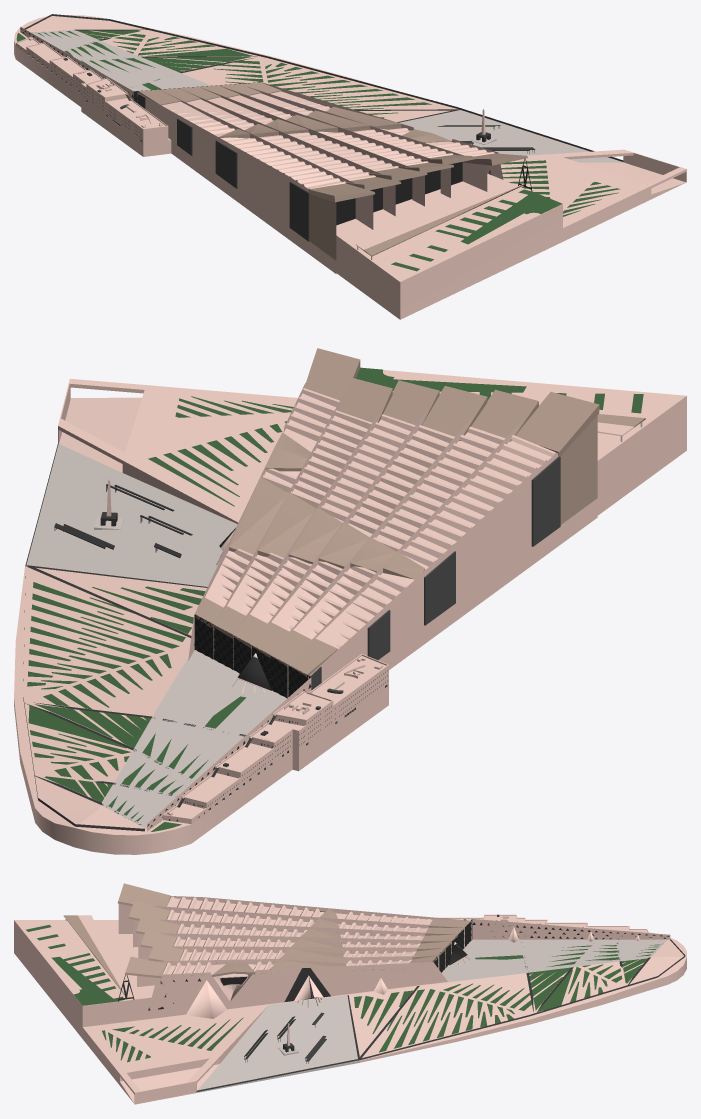
Rendered from 20250702_museum_for_mb.glb.
3 views of the same model, one above another, from view 1: azimuth 30°, elevation 25°; view 2: azimuth 150°, elevation 25°; view 3: azimuth 270°, elevation 25° (orthographic). The views are drawn at different scales.
Visible parts, largest first — view 1: Plane.017, Plane.010, Plane.018, Plane.049, Plane.011, Plane.079, Plane.002, Plane.083, Plane.012, Plane.051, Plane.050, Plane.075 (+4 smaller); view 2: Plane.017, Plane.018, Plane.049, Plane.010, Plane.079, Plane.002, Plane.012, Plane.011, Plane.068, Plane.082, Plane.080, Plane.083 (+6 smaller); view 3: Plane.017, Plane.010, Plane.018, Plane.011, Plane.049, Plane.079, Plane.075, Plane.002, Plane.053, Plane.083, Plane.051, Plane.082 (+7 smaller).
Part boxes in pixels (x1,y1,x2,y2): Plane.017: (14, 15, 685, 319); Plane.010: (137, 90, 532, 273); Plane.018: (163, 99, 494, 189); Plane.049: (138, 82, 527, 202); Plane.011: (162, 86, 487, 229); Plane.079: (16, 30, 431, 118); Plane.002: (15, 36, 168, 143); Plane.083: (391, 189, 562, 271); Plane.012: (161, 91, 330, 132); Plane.051: (554, 149, 686, 188); Plane.050: (24, 14, 623, 161); Plane.075: (20, 27, 503, 178); Plane.017: (14, 370, 686, 854); Plane.018: (220, 388, 556, 647); Plane.049: (195, 348, 599, 676); Plane.010: (188, 384, 597, 690); Plane.079: (27, 582, 205, 831); Plane.002: (163, 654, 388, 823); Plane.012: (205, 550, 400, 649); Plane.011: (213, 393, 522, 697); Plane.068: (194, 614, 310, 698); Plane.082: (148, 396, 293, 506); Plane.080: (25, 565, 245, 824); Plane.083: (356, 367, 643, 413); Plane.017: (14, 915, 686, 1104); Plane.010: (118, 896, 471, 1012); Plane.018: (161, 896, 430, 976); Plane.011: (118, 903, 464, 991); Plane.049: (118, 883, 470, 978); Plane.079: (354, 958, 647, 1052); Plane.075: (146, 919, 670, 1019); Plane.002: (438, 914, 650, 939); Plane.053: (186, 927, 639, 1018); Plane.083: (26, 924, 124, 1005); Plane.051: (120, 1056, 219, 1104); Plane.082: (102, 1017, 243, 1062).
Bounding box in the file's own units: 443 × 86.98 × 774.
